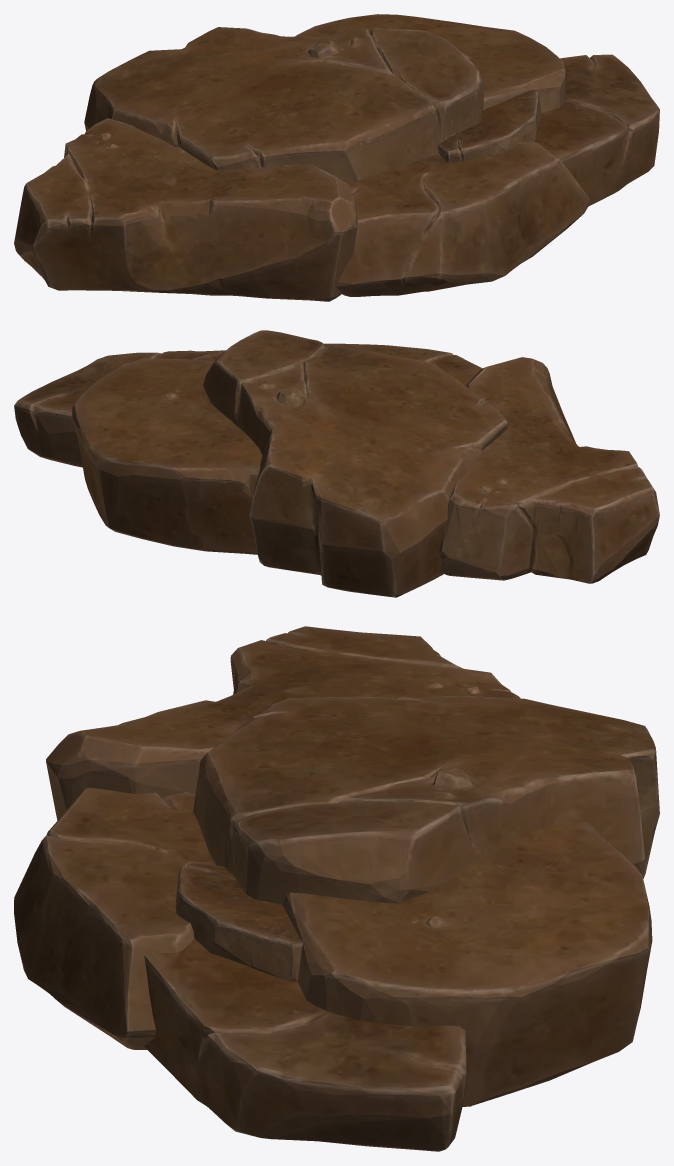
The picture shows the model from 3 angles, top to bottom: view 1: azimuth 30°, elevation 25°; view 2: azimuth 150°, elevation 25°; view 3: azimuth 270°, elevation 25°; orthographic projection. The views are drawn at different scales.
Parts seen in each view (by area): view 1: SM_Mining_Node_Large_Clay_02_LOD0; view 2: SM_Mining_Node_Large_Clay_02_LOD0; view 3: SM_Mining_Node_Large_Clay_02_LOD0.
Boxes of the visible parts, x1,y1,x2,y2 form: SM_Mining_Node_Large_Clay_02_LOD0: (14,14,659,301); SM_Mining_Node_Large_Clay_02_LOD0: (14,330,659,597); SM_Mining_Node_Large_Clay_02_LOD0: (14,626,659,1151).
Bounding box in the file's own units: 6.08 × 1.28 × 3.8.
